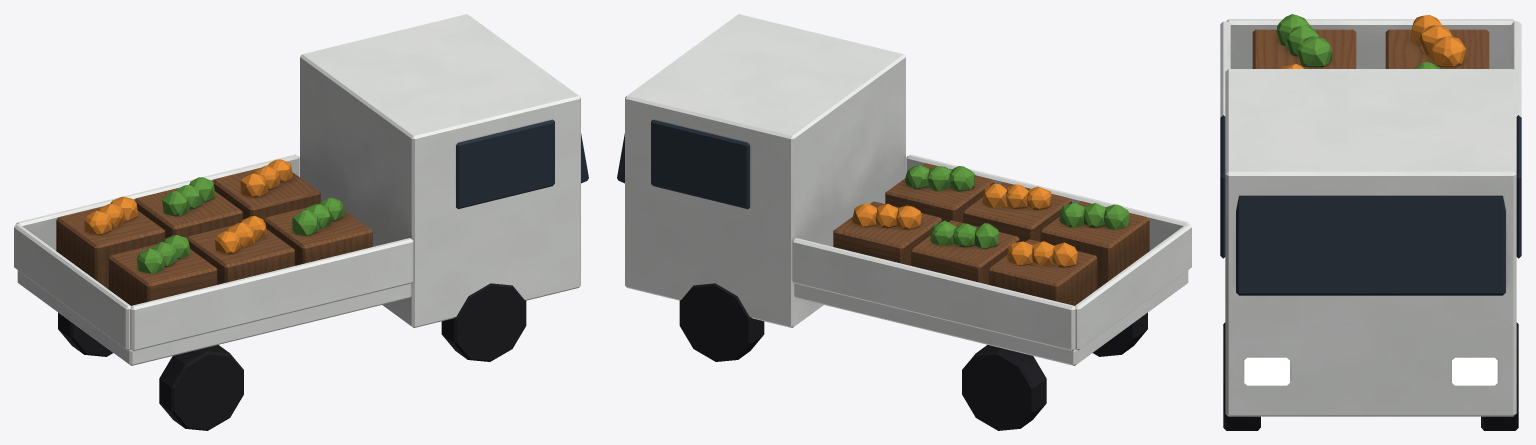
The model's file is keilastbil_tex.glb.
3 renders of one model, left to right at view 1: azimuth 30°, elevation 25°; view 2: azimuth 150°, elevation 25°; view 3: azimuth 270°, elevation 25°, orthographic. The views are drawn at different scales.
Visible parts, largest first — view 1: keilastbil; view 2: keilastbil; view 3: keilastbil.
Boxes of the visible parts, bbox=[...] form: keilastbil: bbox=[14, 14, 588, 430]; keilastbil: bbox=[617, 14, 1191, 430]; keilastbil: bbox=[1220, 14, 1521, 430].
Bounding box in the file's own units: 3.31 × 1.65 × 1.45.
7 materials, 5 textured.
